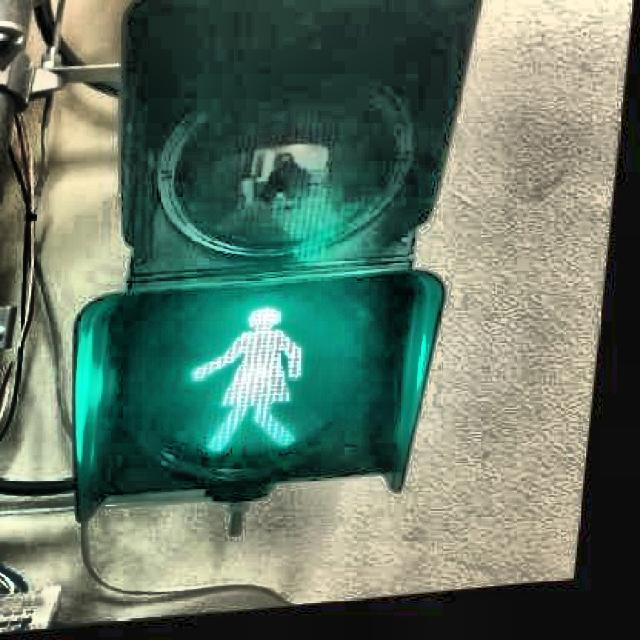semaforo pedestre: (38, 0, 504, 569)
